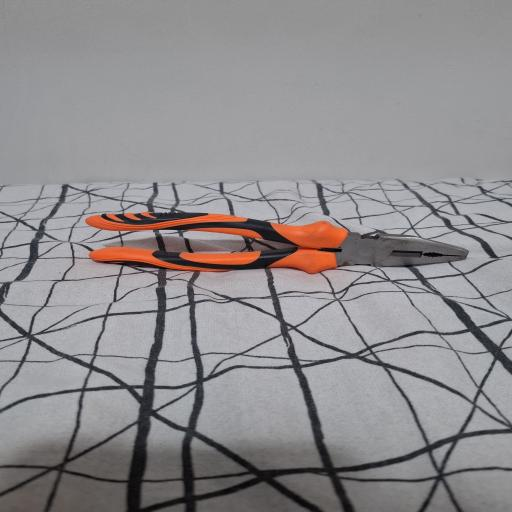alicate: (85, 209, 471, 279)
